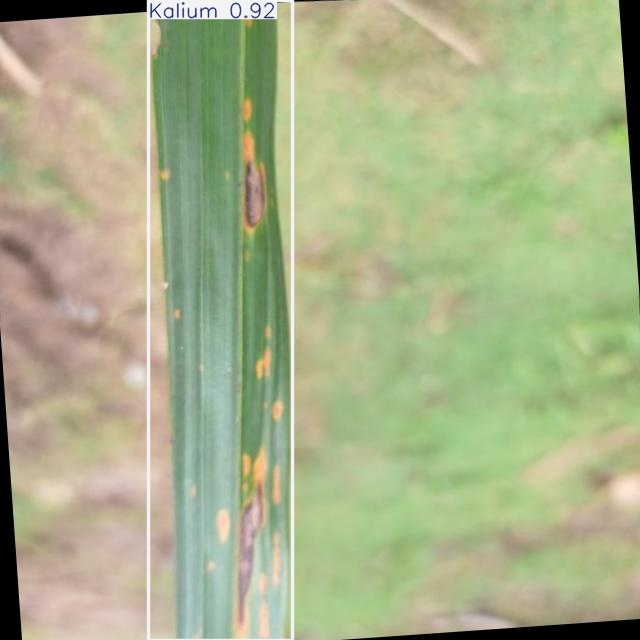Kalium: (149, 1, 293, 640)
